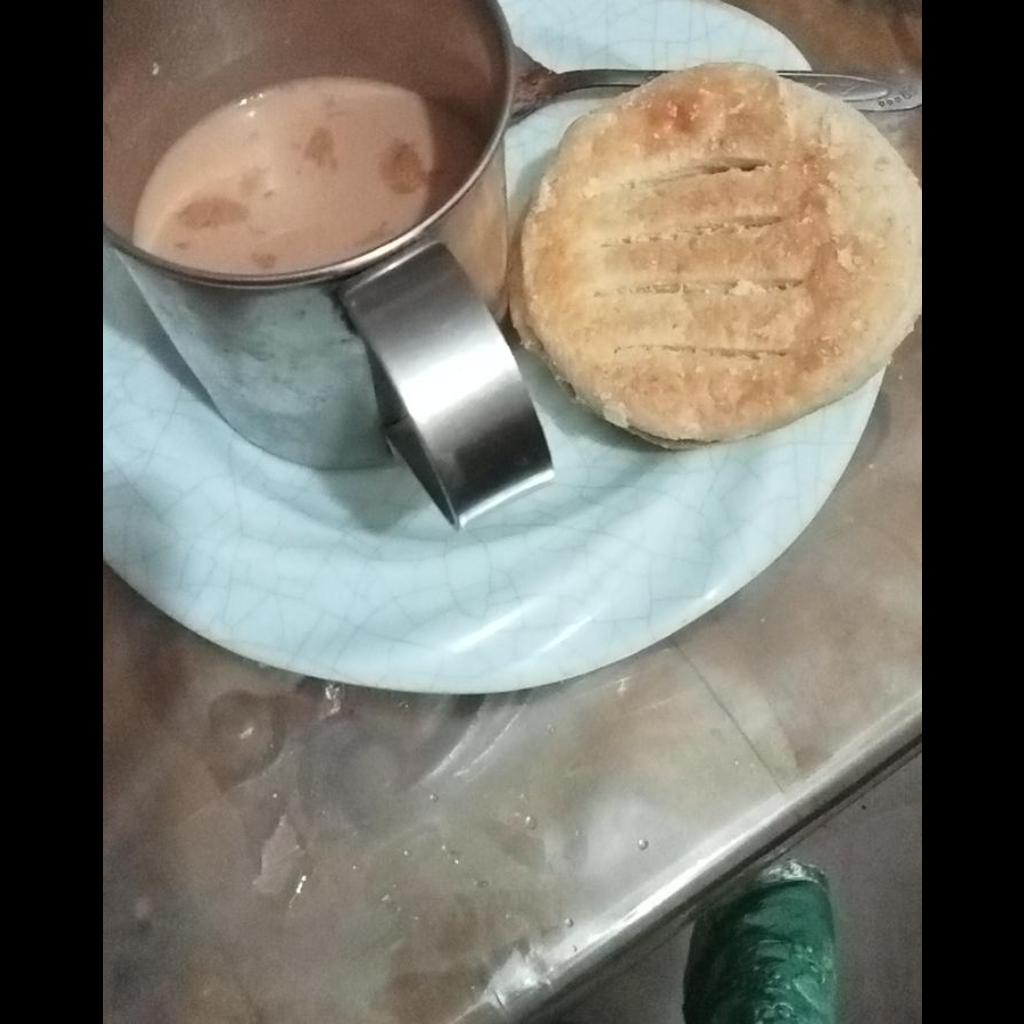cha: (133, 88, 475, 274)
ruti: (512, 68, 919, 455)
